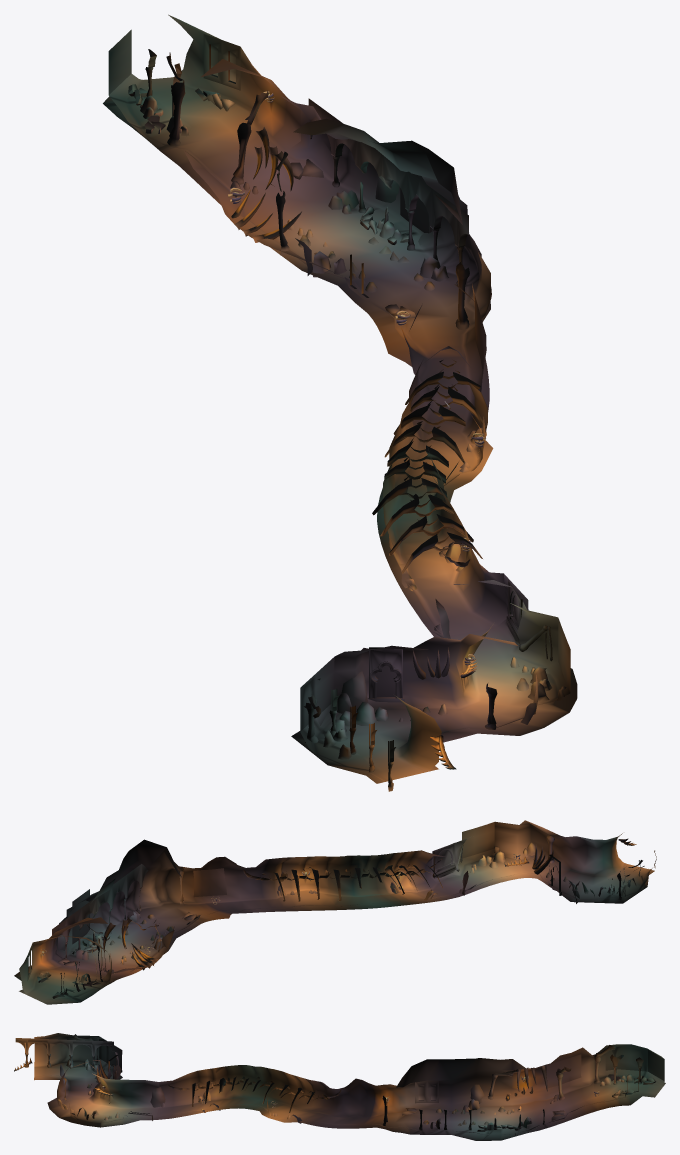
Rendered from 06Hall.gltf.
3 renders of one model, top to bottom at view 1: azimuth 30°, elevation 25°; view 2: azimuth 150°, elevation 25°; view 3: azimuth 270°, elevation 25°, orthographic. The views are drawn at different scales.
Parts seen in each view (by area): view 1: stg040_o19_Mesh_0015, stg040_o19_Mesh_0001, stg040_a19_Mesh_0000, stg040_o21_Mesh_0004, stg040_o19_Mesh_0004, stg040_o20_Mesh_0012, stg040_o19_Mesh_0006, stg040_o19_Mesh_0012, stg040_o20_Mesh_0014, stg040_o20_Mesh_0013, stg040_o20_Mesh_0009; view 2: stg040_o19_Mesh_0001, stg040_o19_Mesh_0015, stg040_a19_Mesh_0000, stg040_o21_Mesh_0004, stg040_o19_Mesh_0004, stg040_o20_Mesh_0012, stg040_o19_Mesh_0012, stg040_o20_Mesh_0013, stg040_o19_Mesh_0006, stg040_o19_Mesh_0003, stg040_o20_Mesh_0005, stg040_o20_Mesh_0011; view 3: stg040_o19_Mesh_0001, stg040_o19_Mesh_0015, stg040_a19_Mesh_0000, stg040_o19_Mesh_0004, stg040_o19_Mesh_0012, stg040_o20_Mesh_0013, stg040_o21_Mesh_0004, stg040_o19_Mesh_0011, stg040_o20_Mesh_0012, stg040_o20_Mesh_0014, stg040_o19_Mesh_0006, stg040_o20_Mesh_0011 (+1 smaller).
Boxes of the visible parts, left/top/right/bottom form: stg040_o19_Mesh_0015: left=103, top=77, right=577, bottom=783; stg040_o19_Mesh_0001: left=109, top=14, right=570, bottom=781; stg040_a19_Mesh_0000: left=124, top=77, right=560, bottom=781; stg040_o21_Mesh_0004: left=128, top=49, right=468, bottom=317; stg040_o19_Mesh_0004: left=145, top=52, right=497, bottom=791; stg040_o20_Mesh_0012: left=372, top=373, right=485, bottom=573; stg040_o19_Mesh_0006: left=231, top=127, right=449, bottom=679; stg040_o19_Mesh_0012: left=300, top=618, right=570, bottom=731; stg040_o20_Mesh_0014: left=203, top=34, right=368, bottom=297; stg040_o20_Mesh_0013: left=108, top=29, right=486, bottom=378; stg040_o20_Mesh_0009: left=405, top=371, right=457, bottom=550; stg040_o19_Mesh_0001: left=19, top=820, right=652, bottom=998; stg040_o19_Mesh_0015: left=14, top=856, right=654, bottom=1004; stg040_a19_Mesh_0000: left=26, top=855, right=650, bottom=1000; stg040_o21_Mesh_0004: left=37, top=864, right=196, bottom=998; stg040_o19_Mesh_0004: left=60, top=835, right=656, bottom=993; stg040_o20_Mesh_0012: left=261, top=865, right=442, bottom=901; stg040_o19_Mesh_0012: left=462, top=822, right=494, bottom=858; stg040_o20_Mesh_0013: left=193, top=868, right=226, bottom=897; stg040_o19_Mesh_0006: left=103, top=844, right=554, bottom=970; stg040_o19_Mesh_0003: left=432, top=843, right=455, bottom=878; stg040_o20_Mesh_0005: left=72, top=889, right=89, bottom=944; stg040_o20_Mesh_0011: left=243, top=858, right=442, bottom=880; stg040_o19_Mesh_0001: left=34, top=1033, right=664, bottom=1135; stg040_o19_Mesh_0015: left=34, top=1061, right=665, bottom=1140; stg040_a19_Mesh_0000: left=34, top=1060, right=662, bottom=1134; stg040_o19_Mesh_0004: left=25, top=1034, right=641, bottom=1130; stg040_o19_Mesh_0012: left=99, top=1036, right=647, bottom=1071; stg040_o20_Mesh_0013: left=546, top=1050, right=664, bottom=1088; stg040_o21_Mesh_0004: left=402, top=1054, right=655, bottom=1131; stg040_o19_Mesh_0011: left=15, top=1038, right=113, bottom=1055; stg040_o20_Mesh_0012: left=192, top=1076, right=328, bottom=1112; stg040_o20_Mesh_0014: left=415, top=1076, right=638, bottom=1103; stg040_o19_Mesh_0006: left=96, top=1059, right=547, bottom=1101; stg040_o20_Mesh_0011: left=167, top=1080, right=341, bottom=1098.
Bounding box in the file's own units: 96.15 × 39.36 × 200.
